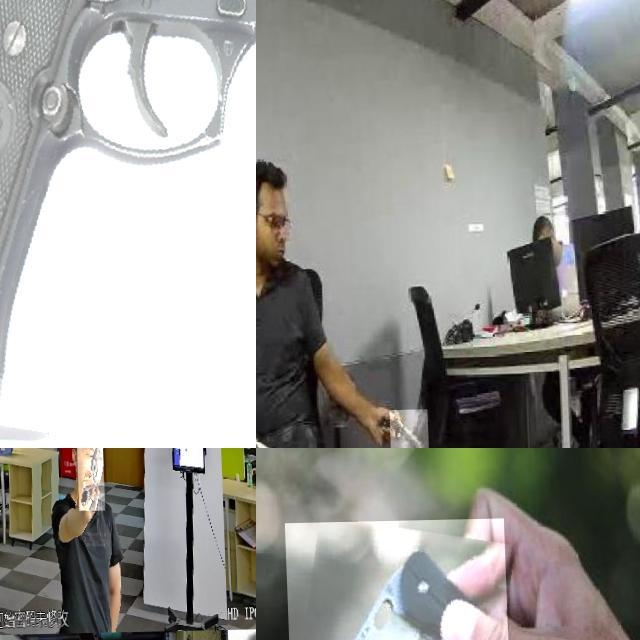-: (283, 520, 510, 640), (385, 411, 424, 448)
gun-knife-thesis - v11 Yolov5 augmented: (0, 0, 256, 448), (75, 448, 104, 512)
